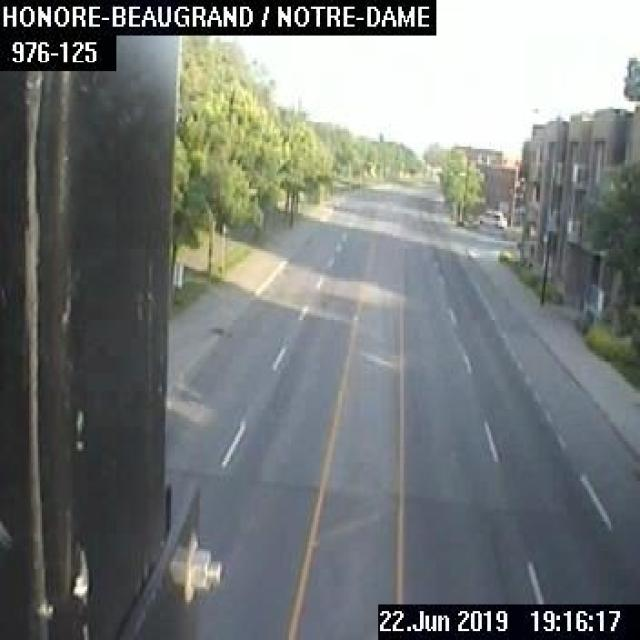vehicle: (478, 209, 504, 228)
